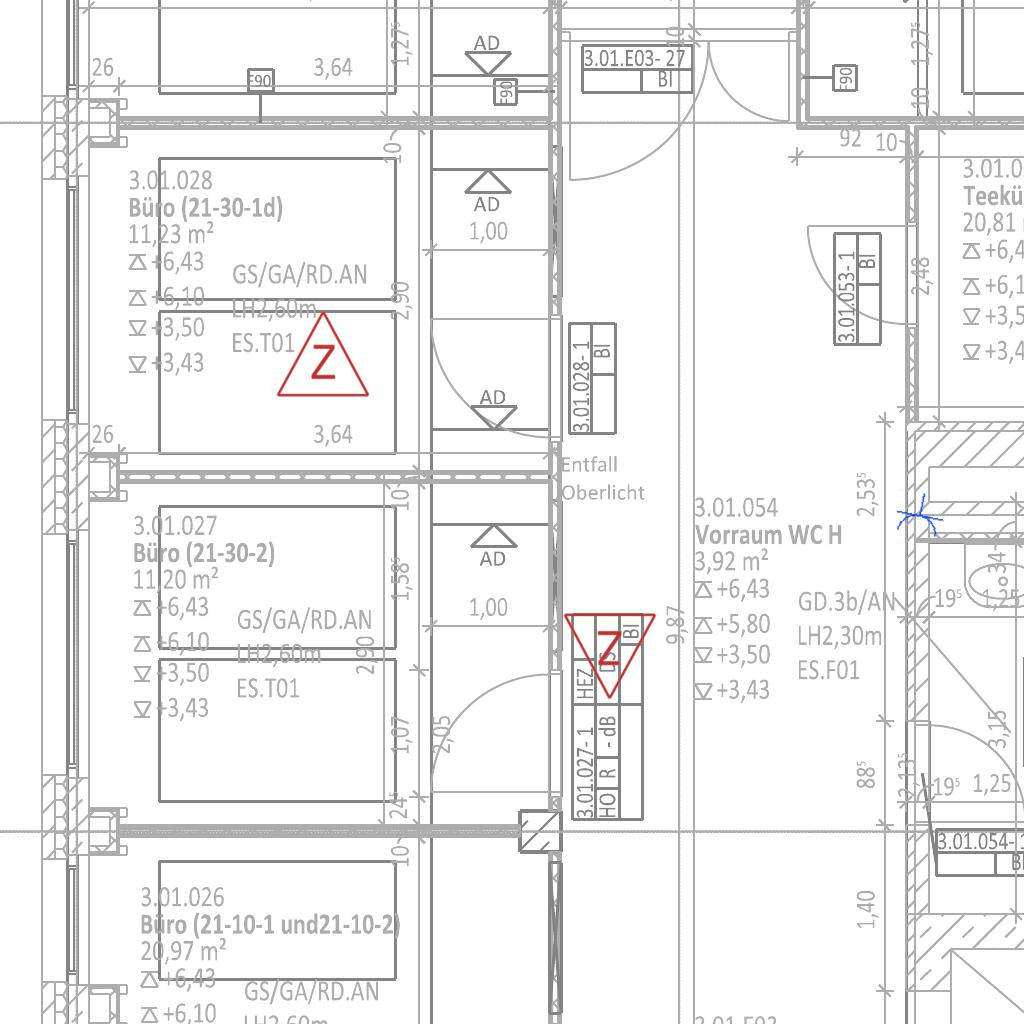Schukosteckdose_einfach: (891, 488, 949, 541)
Zimmersignalleuchte: (273, 304, 371, 404), (562, 606, 660, 706)
